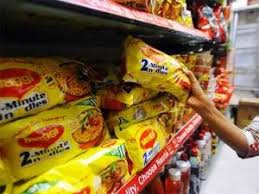maggie: (1, 91, 112, 175), (126, 38, 191, 100)
